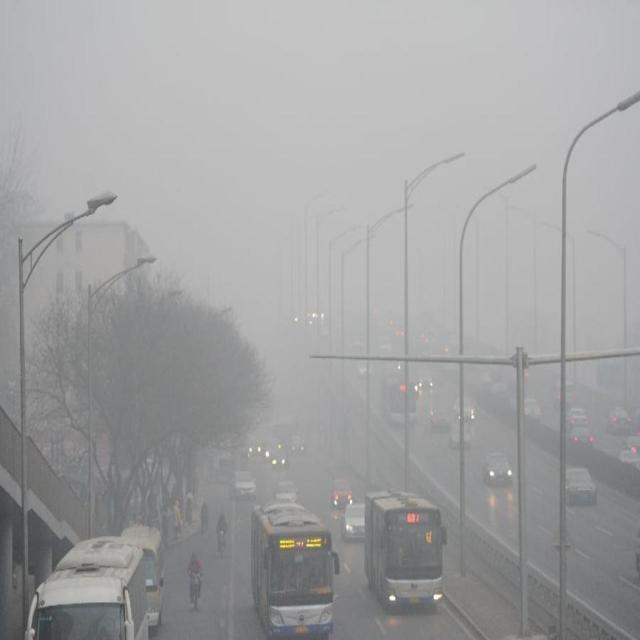Bus: (251, 499, 341, 640), (20, 537, 142, 640), (368, 481, 446, 619), (127, 526, 163, 632), (385, 363, 413, 422)
Car: (563, 465, 593, 505), (343, 502, 366, 539), (230, 470, 255, 503), (331, 474, 353, 511), (611, 405, 640, 433), (556, 377, 579, 410), (272, 480, 302, 503), (485, 454, 511, 479), (428, 407, 452, 433), (570, 423, 594, 448), (454, 397, 476, 424), (448, 420, 469, 448), (616, 439, 640, 463), (522, 395, 542, 419), (566, 406, 589, 426), (419, 371, 434, 395), (290, 436, 308, 456), (272, 452, 286, 470)
Cycle: (186, 544, 206, 613), (216, 505, 229, 557), (198, 498, 212, 542)
